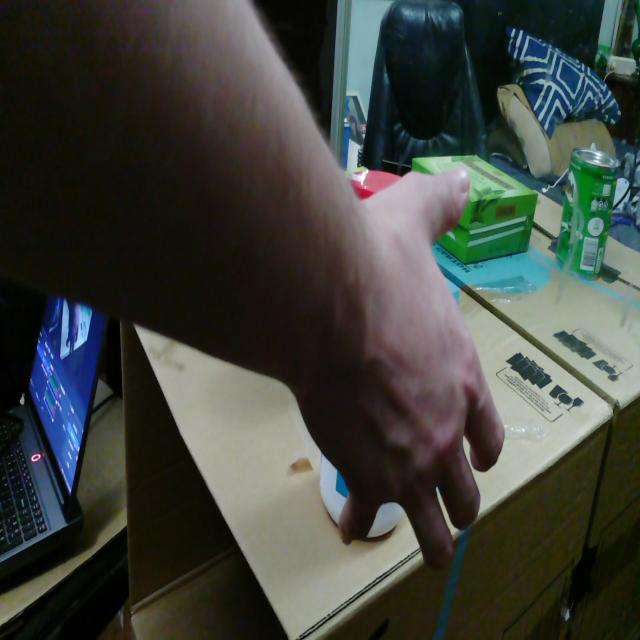woolworths_salt_bottle: (320, 457, 348, 524), (347, 168, 400, 199), (367, 503, 402, 538)
